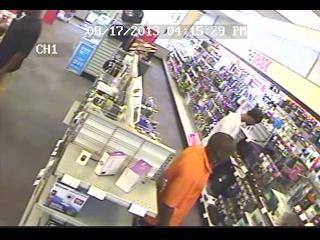Normal: (142, 107, 264, 227), (0, 11, 45, 79)
